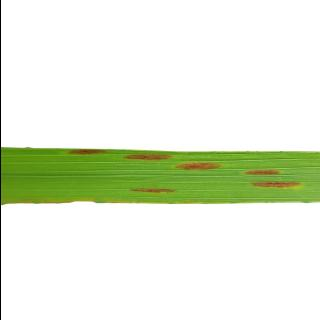Bercak-Cokelat-Sempit: (172, 157, 228, 174), (121, 182, 180, 198), (60, 148, 112, 164), (246, 178, 304, 192), (122, 150, 178, 164), (238, 167, 284, 176)
